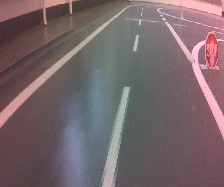stop sign: (204, 29, 220, 70)
